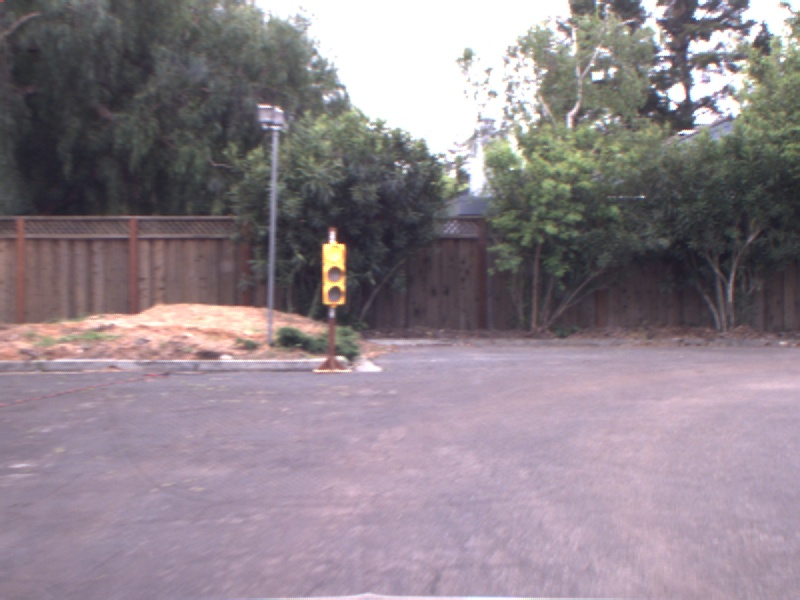red: (320, 235, 351, 314)
